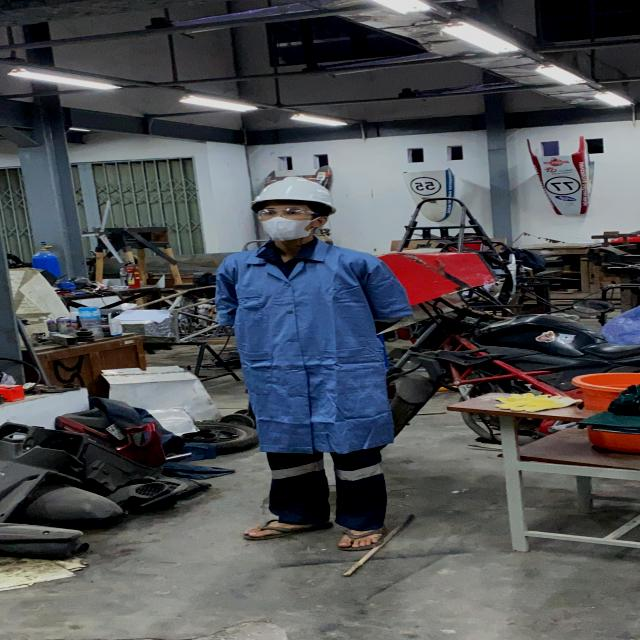face_mask: (256, 203, 316, 242)
glasses: (255, 203, 323, 220)
head_helmet: (248, 175, 338, 211)
person: (211, 172, 425, 550)
